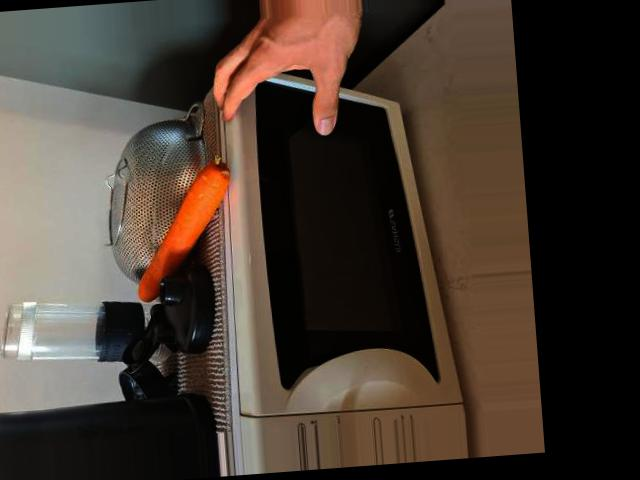carrot: (128, 161, 240, 302)
